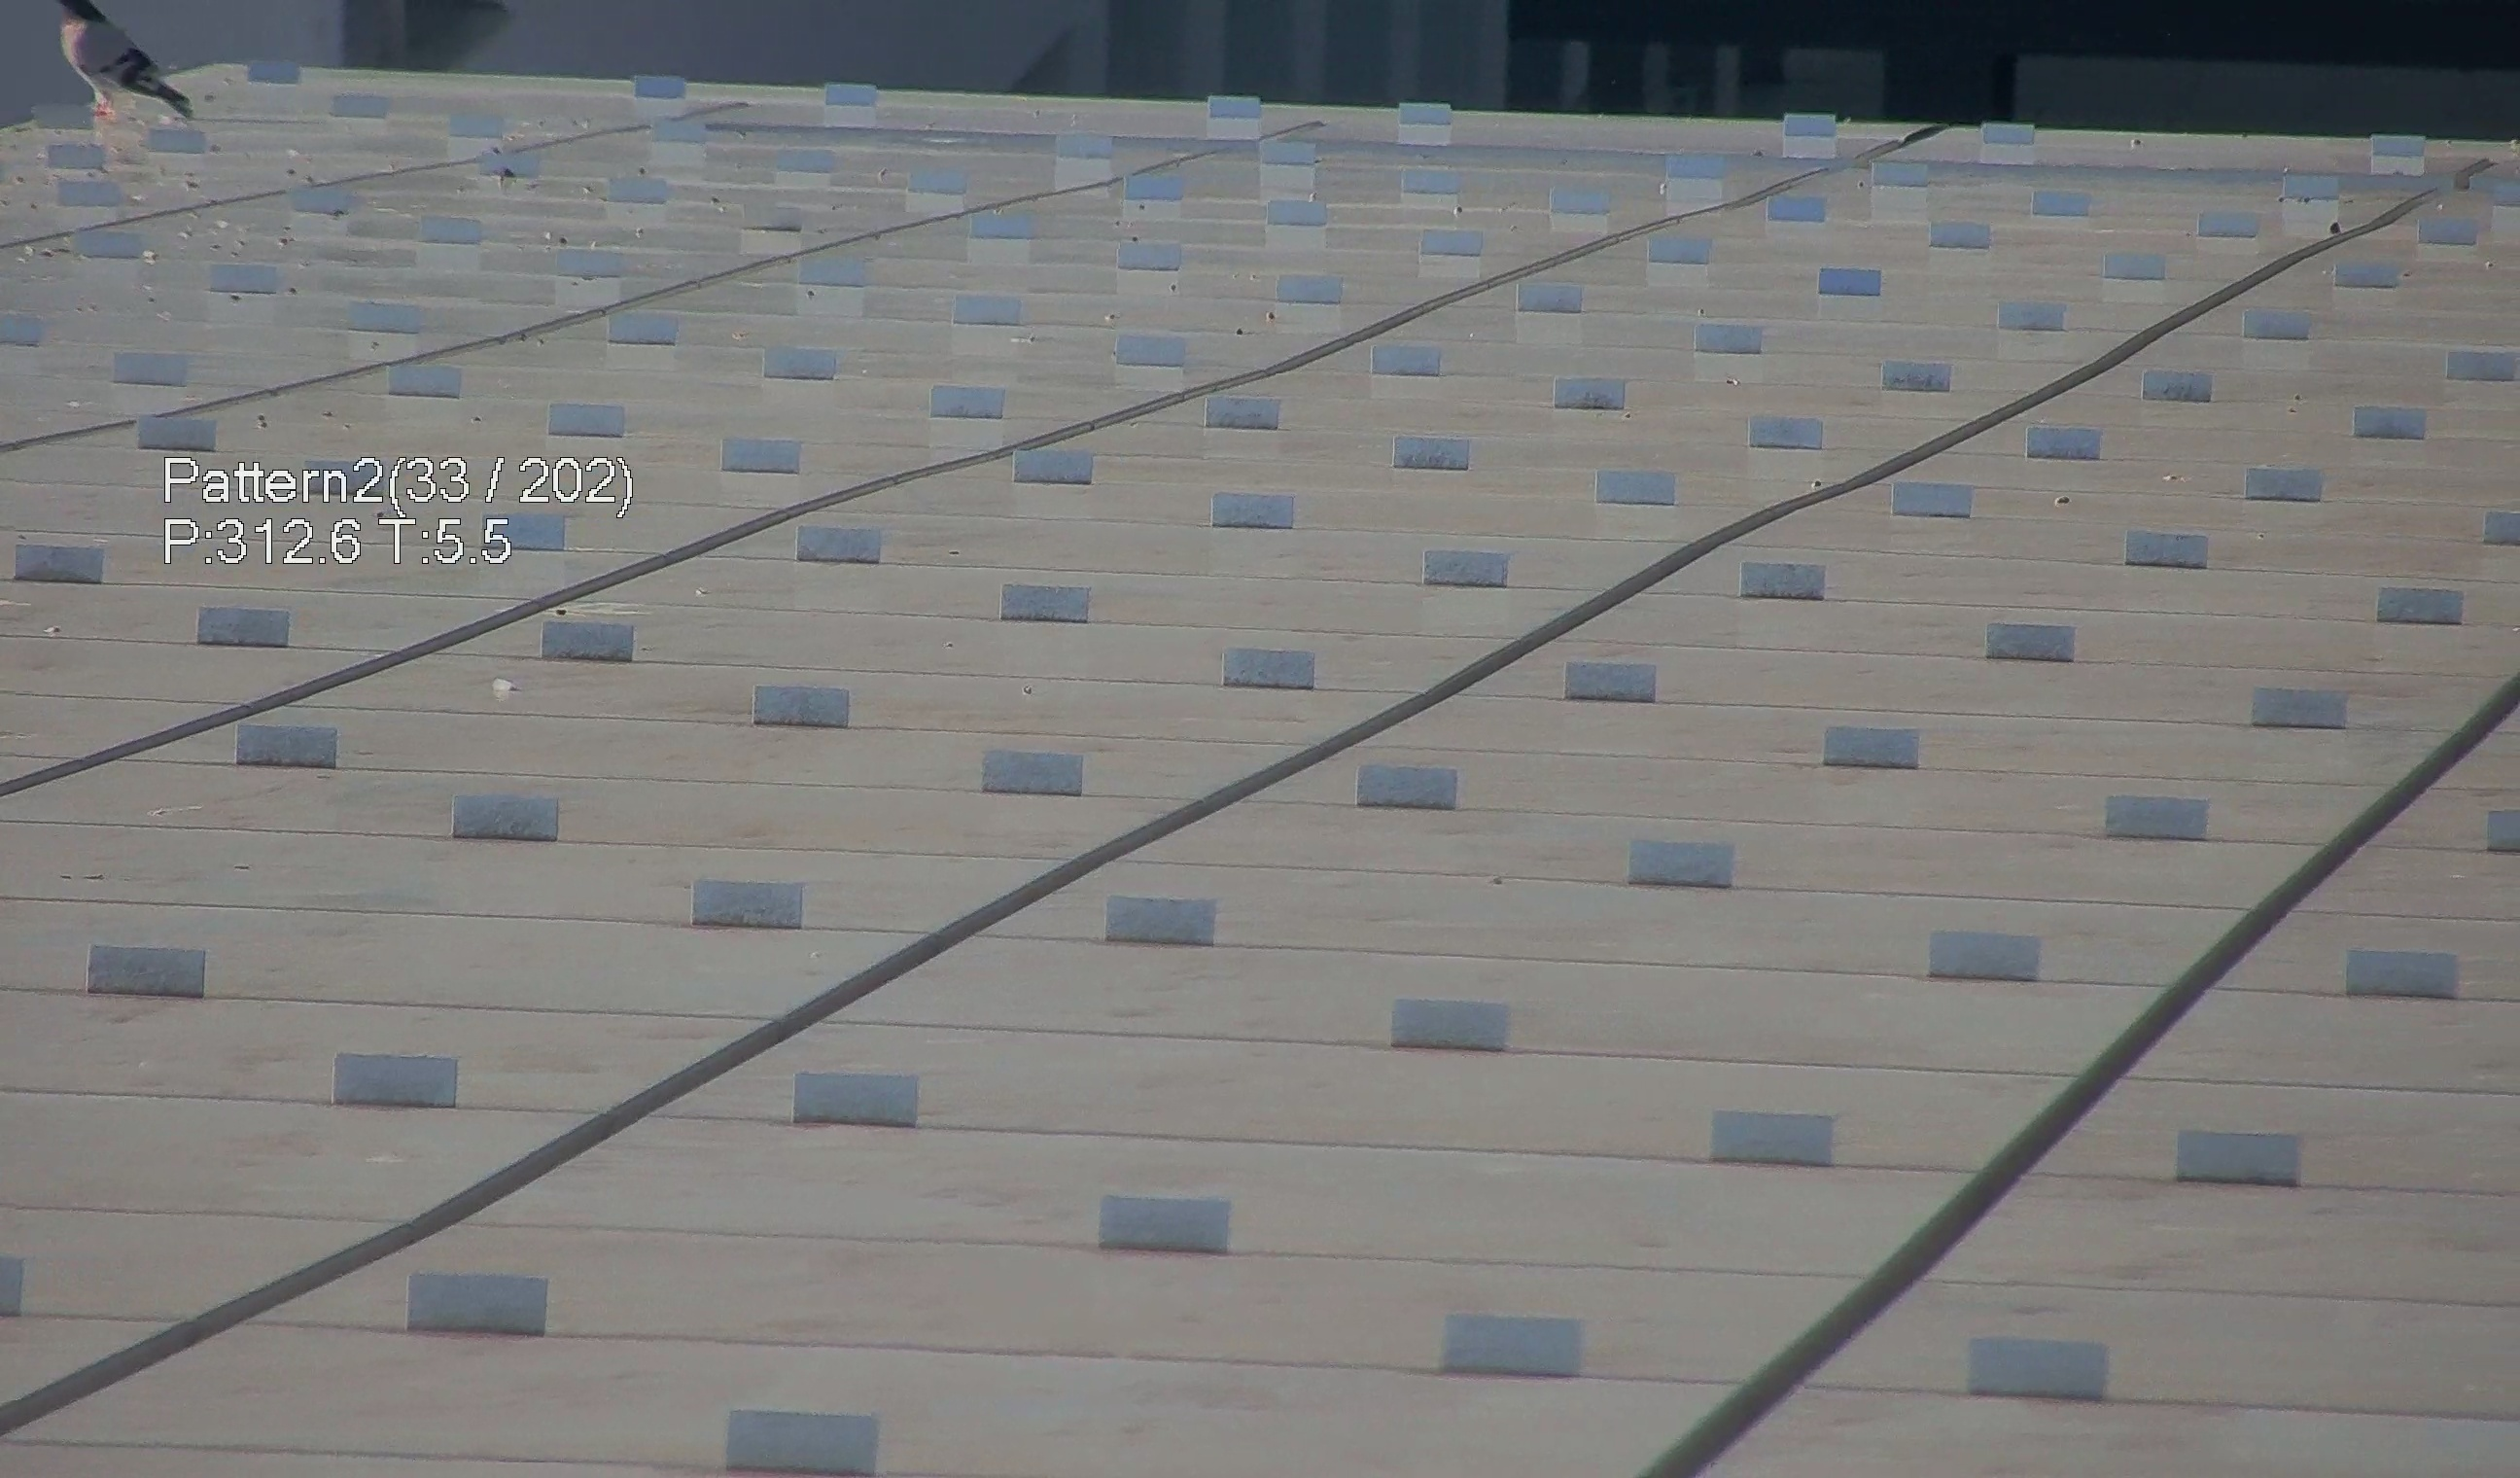Pigeon: (51, 0, 204, 141)
